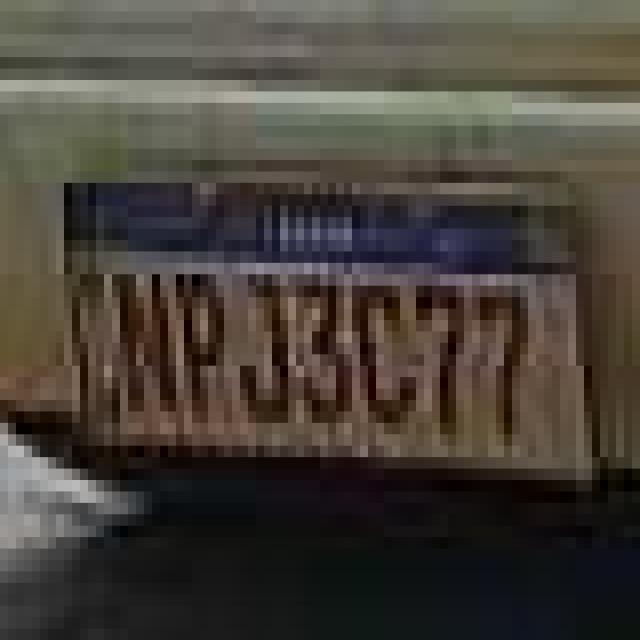3: (294, 266, 349, 434)
7: (421, 281, 476, 444), (484, 282, 538, 441)
C: (355, 275, 409, 429)
J: (232, 260, 289, 432)
N: (114, 275, 170, 417)
P: (180, 264, 228, 424)
